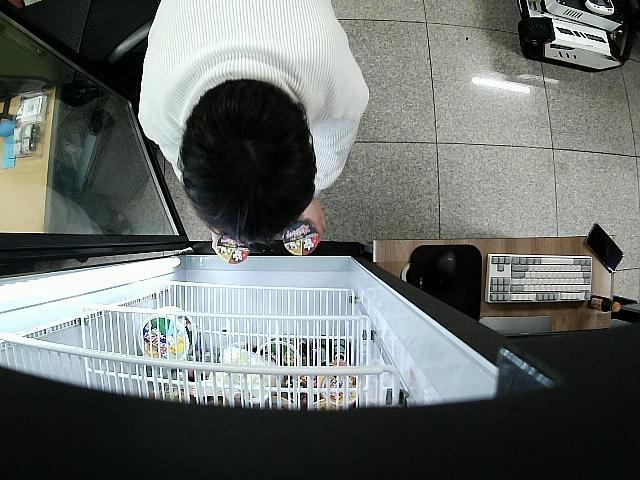08_buldak_S: (284, 218, 322, 256)
